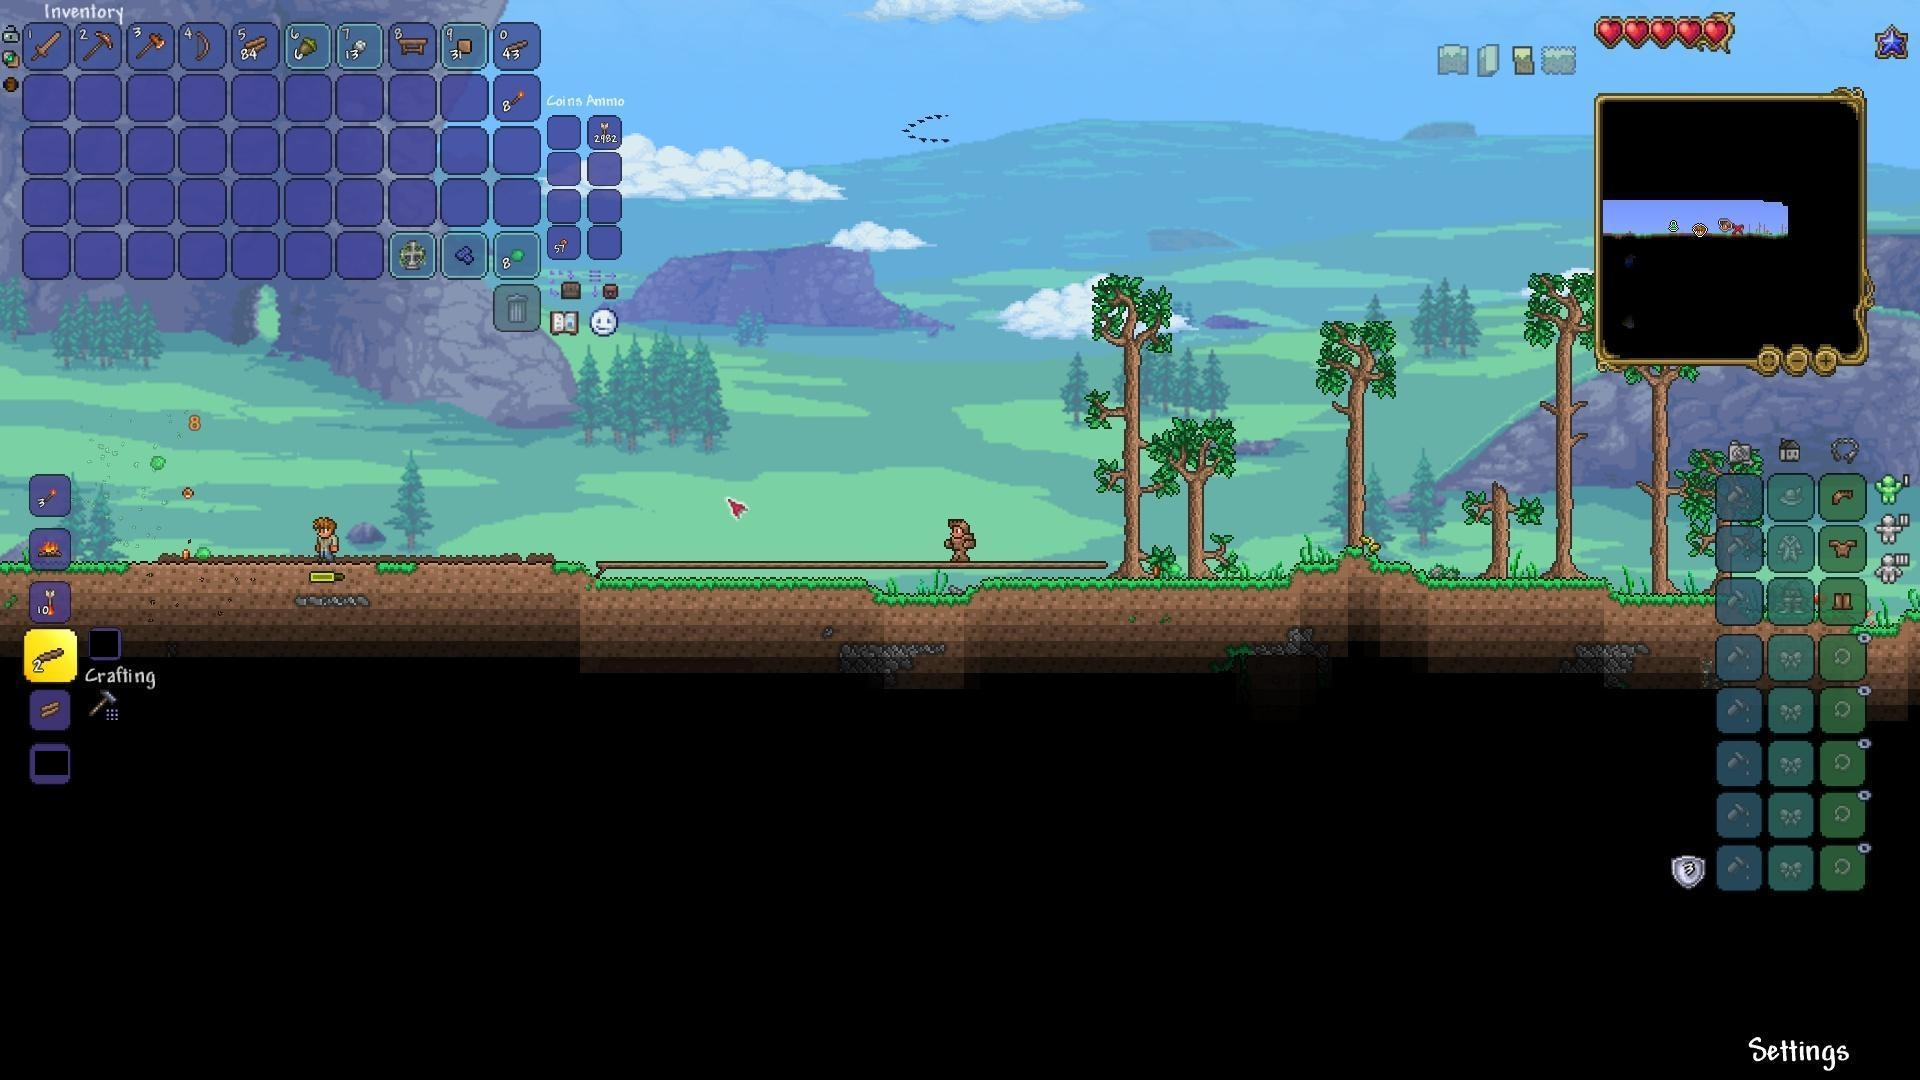breastplate: (1829, 537, 1859, 558)
helmet: (1826, 483, 1858, 512)
legs: (1830, 587, 1855, 615)
wood: (36, 695, 65, 721), (243, 34, 270, 61)
workbench: (393, 33, 430, 58)
